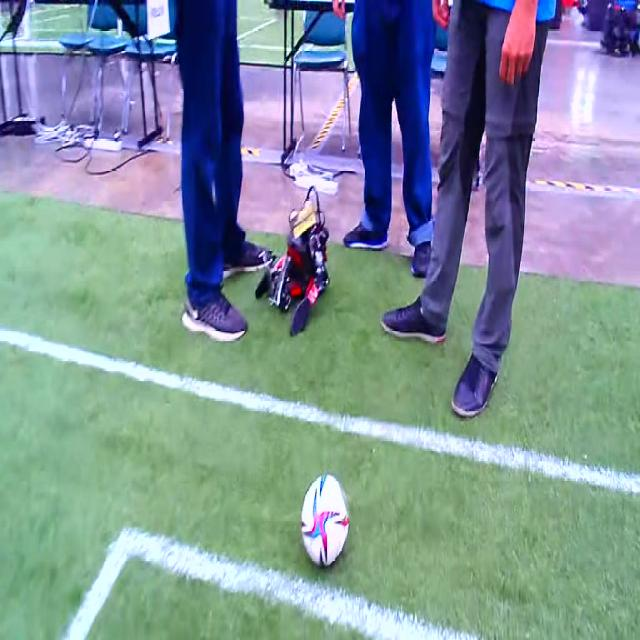ball: (301, 474, 349, 566)
